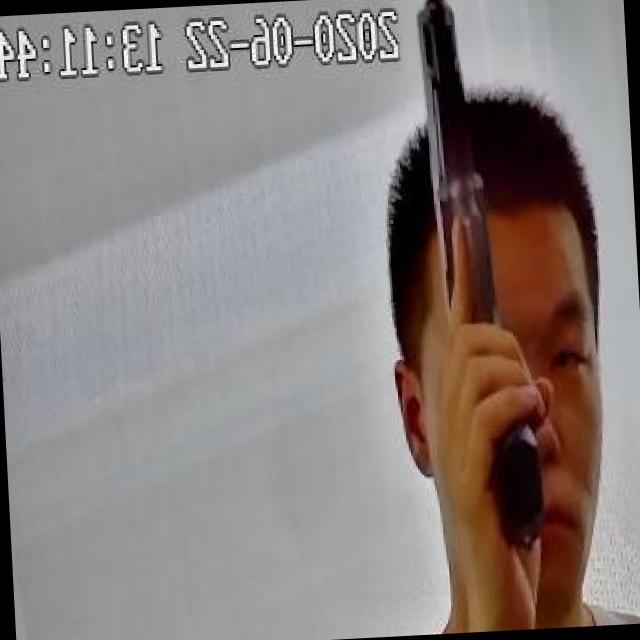Guns: (360, 0, 619, 595)
